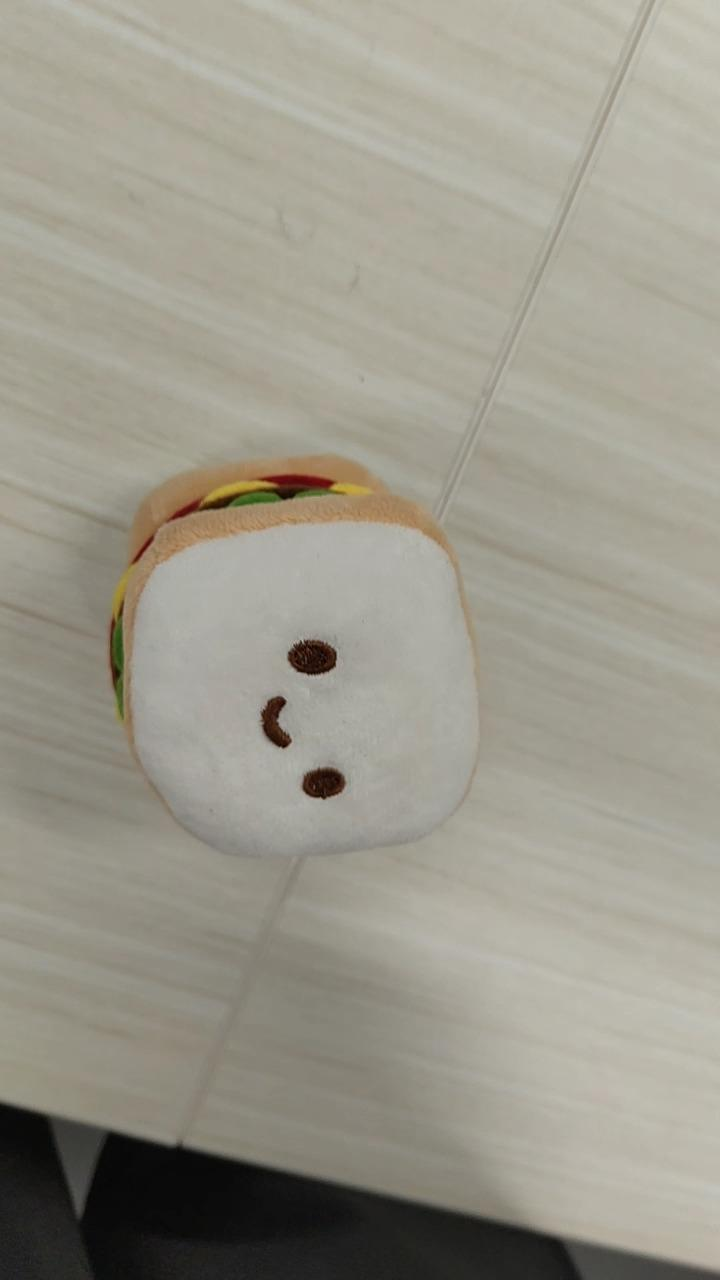objects: (107, 452, 482, 859)
